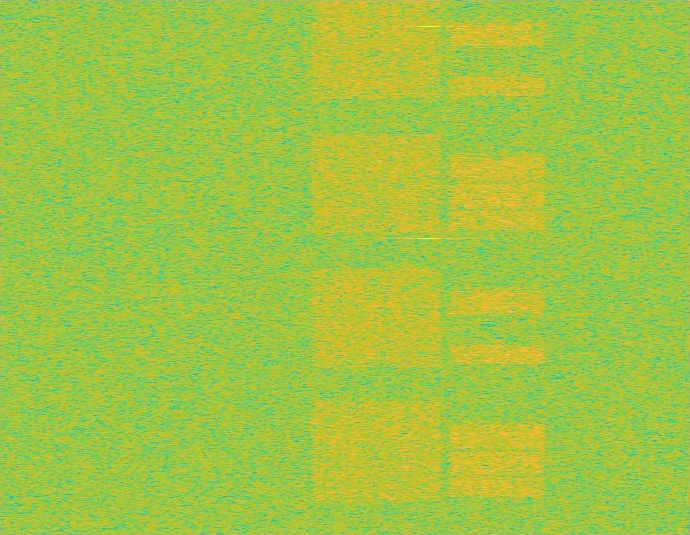5G: (307, 0, 445, 534)
LTE: (445, 0, 549, 534)
Radar: (422, 0, 436, 534)
